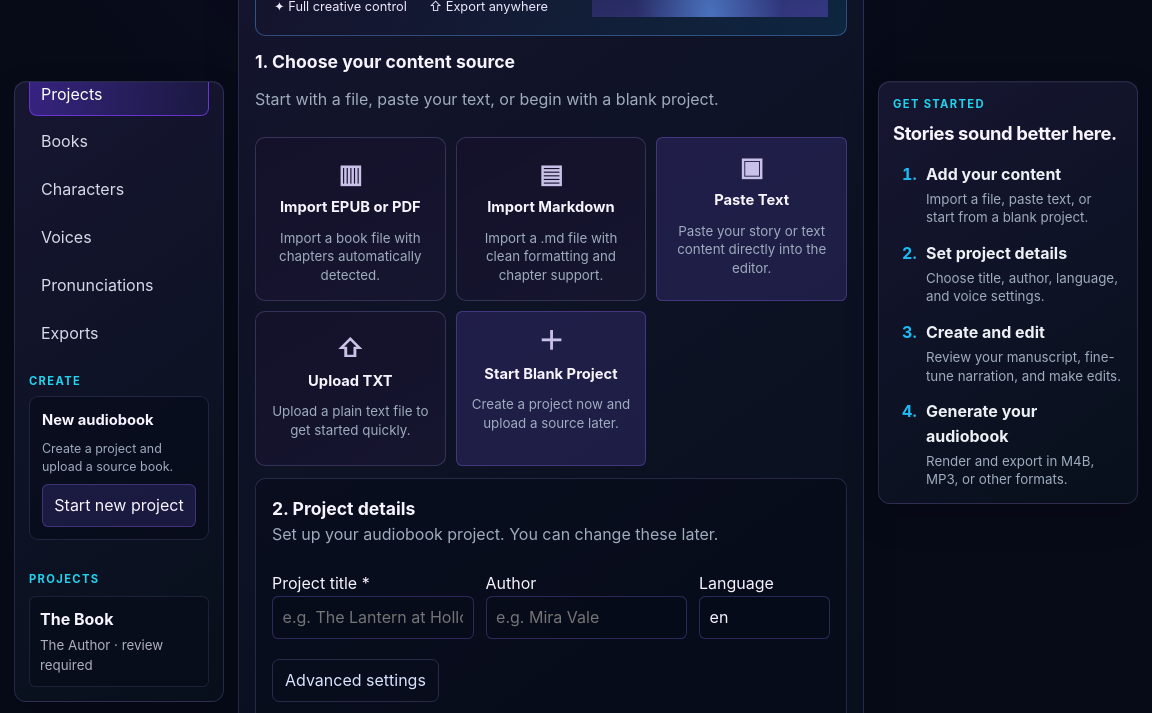
Test: AudiobookWorkspace › refreshes cached spans when background classification completes
(page scrolled)
Click the button "The Book The Author · review required". click: (119, 641)
box: [29,596,209,687]
(page scrolled)
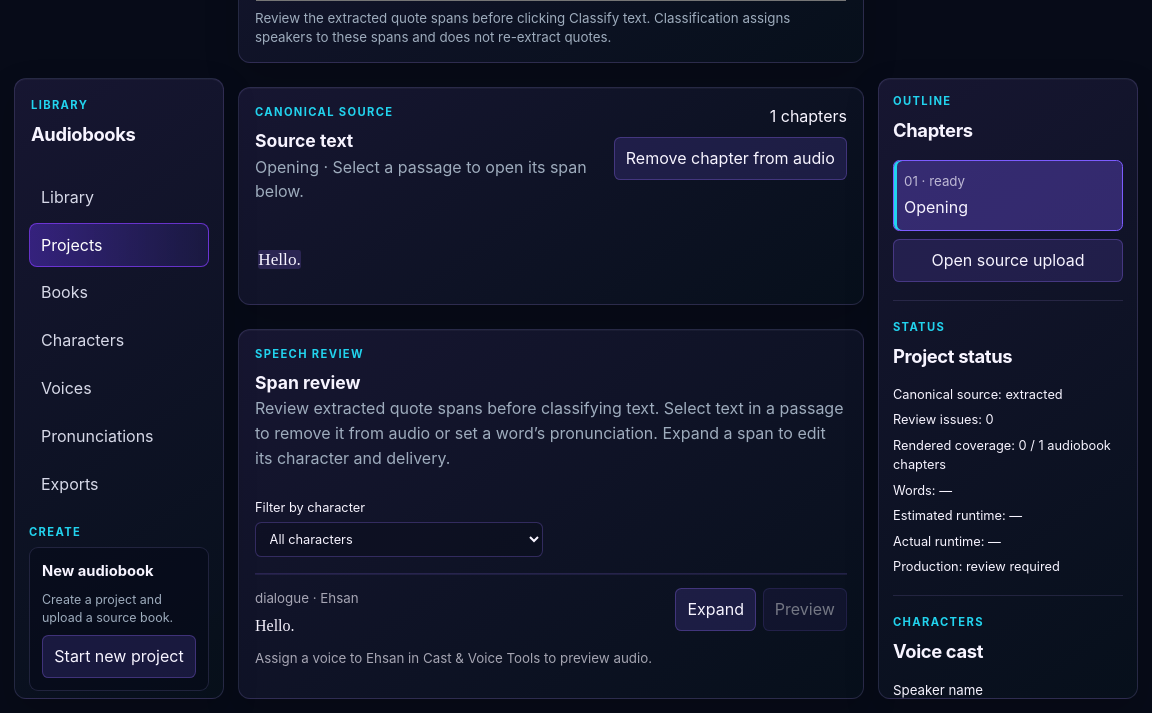
Result: the text "dialogue · Ehsan" is shown at [255,588,359,609]
